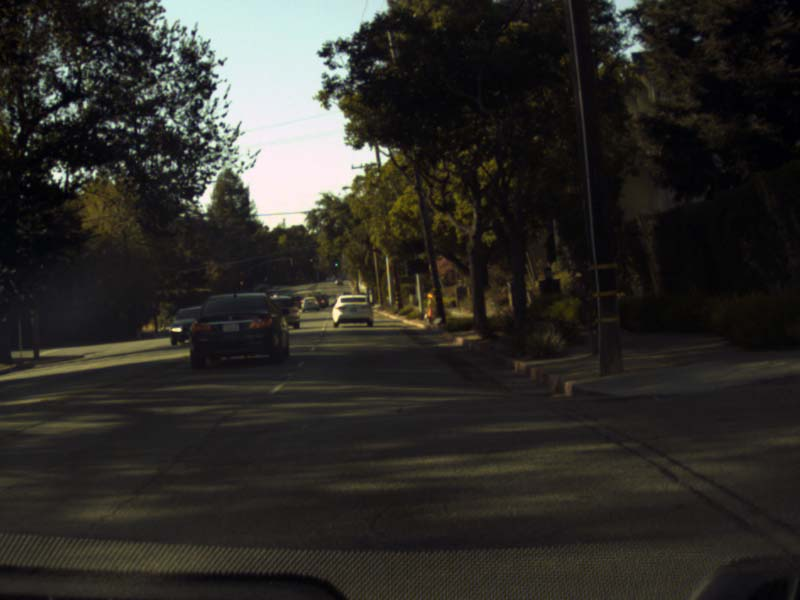Green: (333, 257, 339, 269)
Yellow: (309, 258, 318, 262), (238, 280, 243, 286)
